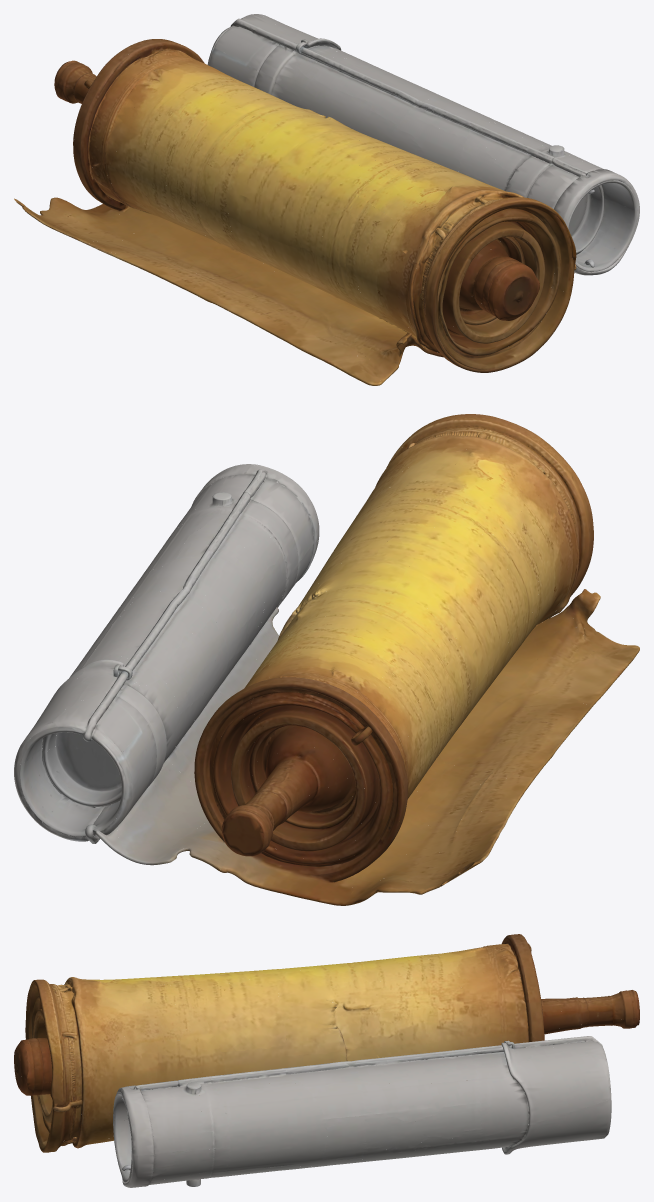
The model's file is megillat-esther.glb.
The picture shows the model from 3 angles, top to bottom: view 1: azimuth 30°, elevation 25°; view 2: azimuth 150°, elevation 25°; view 3: azimuth 270°, elevation 25°; orthographic projection. The views are drawn at different scales.
Parts seen in each view (by area): view 1: tripo_node_cb503604-8a26-4f91-a521-7be3015c121e; view 2: tripo_node_cb503604-8a26-4f91-a521-7be3015c121e; view 3: tripo_node_cb503604-8a26-4f91-a521-7be3015c121e.
Boxes of the visible parts, x1=… form: tripo_node_cb503604-8a26-4f91-a521-7be3015c121e: x1=14, y1=14, x2=639, y2=385; tripo_node_cb503604-8a26-4f91-a521-7be3015c121e: x1=14, y1=414, x2=639, y2=905; tripo_node_cb503604-8a26-4f91-a521-7be3015c121e: x1=14, y1=934, x2=639, y2=1187.
Bounding box in the file's own units: 0.7236 × 0.2719 × 0.9803.
1 material, 1 textured.
